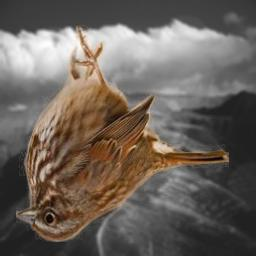Sparrow: (16, 25, 229, 242)
